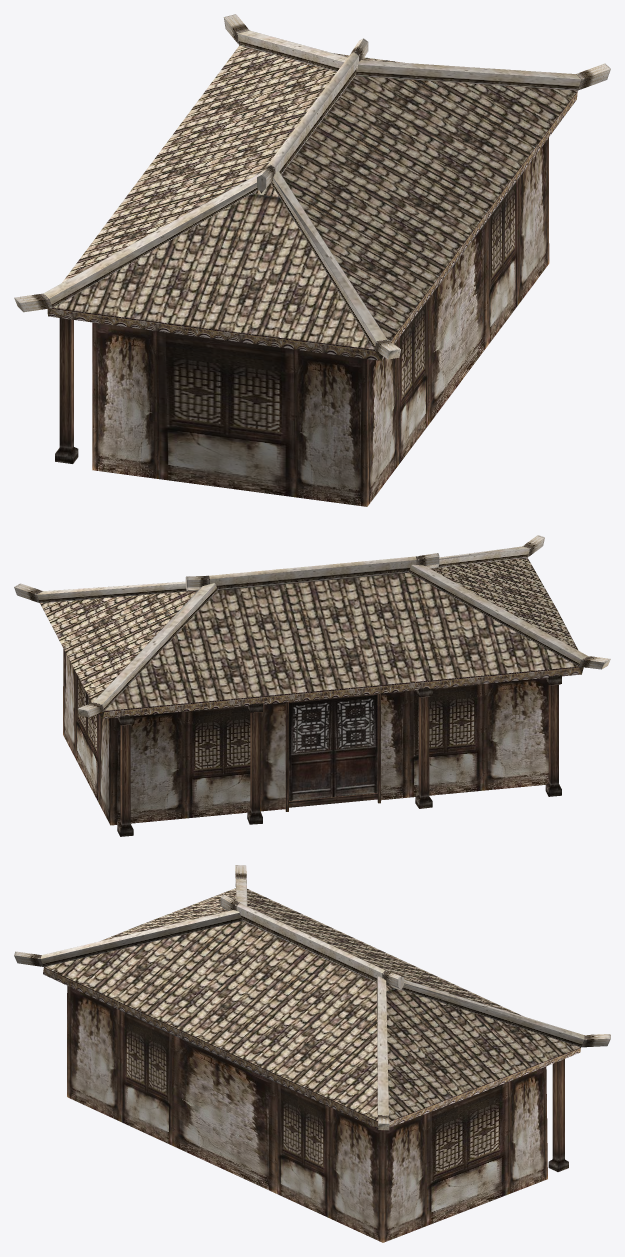
File: Btf16.obj
3 views of the same model, one above another, from view 1: azimuth 30°, elevation 25°; view 2: azimuth 150°, elevation 25°; view 3: azimuth 270°, elevation 25° (orthographic). The views are drawn at different scales.
Parts seen in each view (by area): view 1: Btf16; view 2: Btf16; view 3: Btf16.
Boxes of the visible parts, bbox=[...] form: Btf16: bbox=[14, 14, 610, 506]; Btf16: bbox=[14, 535, 610, 836]; Btf16: bbox=[14, 865, 610, 1242].
Size of the model in its own units: 410 by 150 by 399.
